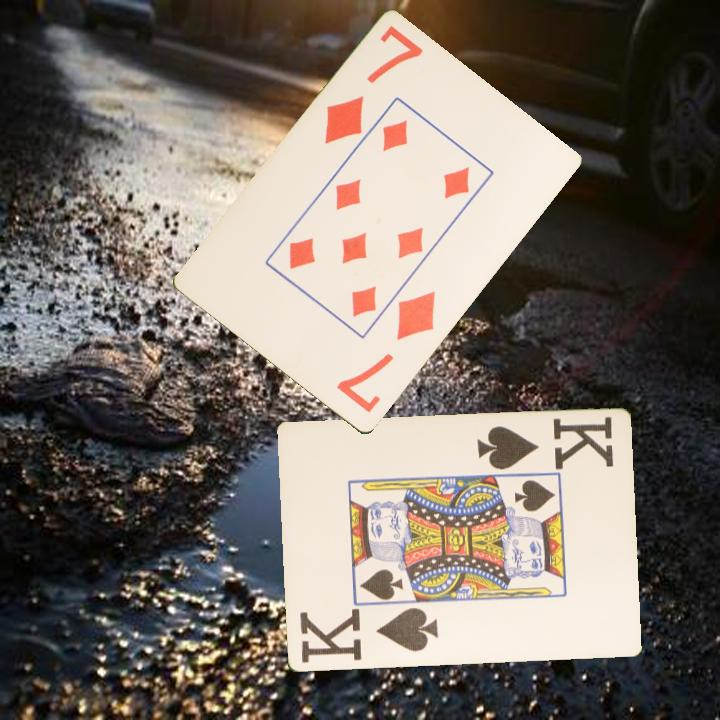7d: (333, 288, 439, 417), (320, 22, 427, 148)
Ks: (296, 605, 441, 666), (473, 413, 616, 473)
